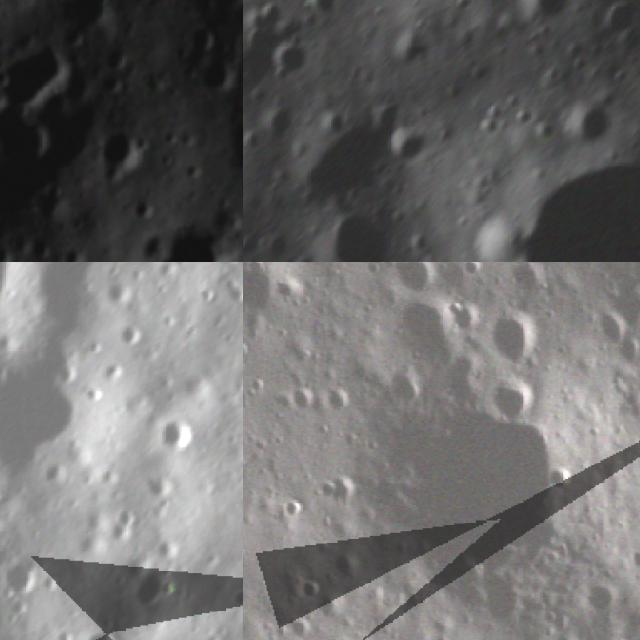crater: (0, 317, 141, 525), (385, 417, 564, 575), (514, 168, 640, 262), (131, 395, 214, 473), (386, 291, 464, 371), (0, 38, 79, 115), (115, 559, 181, 627), (308, 210, 389, 262), (0, 547, 55, 621), (479, 307, 536, 369), (149, 221, 232, 262), (0, 121, 63, 173), (91, 124, 145, 177), (555, 102, 617, 146), (382, 262, 438, 303), (581, 307, 632, 352), (491, 376, 536, 426), (109, 312, 156, 357), (584, 574, 626, 624), (265, 38, 310, 84), (384, 129, 434, 169), (65, 613, 136, 640), (61, 0, 120, 32), (100, 269, 142, 311), (322, 468, 360, 514), (321, 544, 360, 588), (520, 0, 568, 33), (276, 484, 313, 524), (278, 379, 314, 420), (207, 51, 240, 93), (316, 590, 343, 629), (328, 384, 354, 417), (626, 540, 640, 580), (637, 136, 640, 175)
